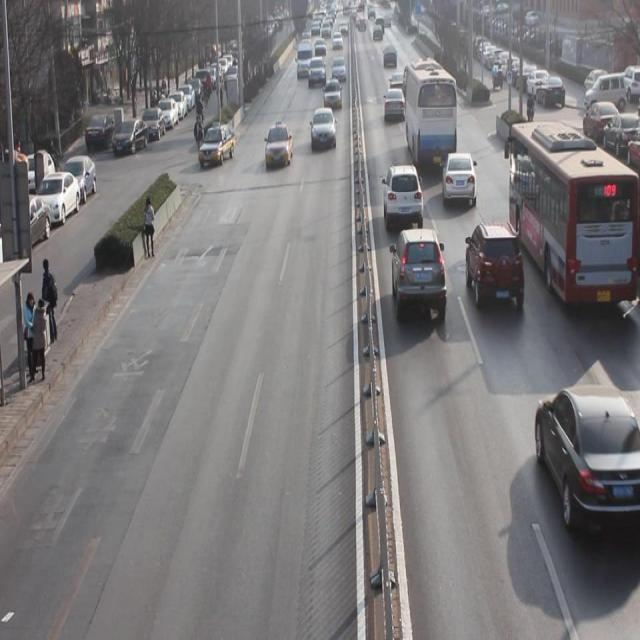car: (532, 382, 628, 532), (466, 220, 525, 318), (389, 225, 448, 322), (381, 163, 425, 230), (441, 148, 478, 208), (198, 124, 234, 171), (264, 121, 295, 171), (309, 106, 337, 151), (384, 86, 408, 125), (322, 78, 342, 114), (308, 56, 326, 87), (332, 51, 347, 79), (382, 45, 398, 69), (389, 76, 407, 96)
truck: (295, 45, 314, 78)
van: (510, 115, 626, 302), (403, 58, 456, 162)
